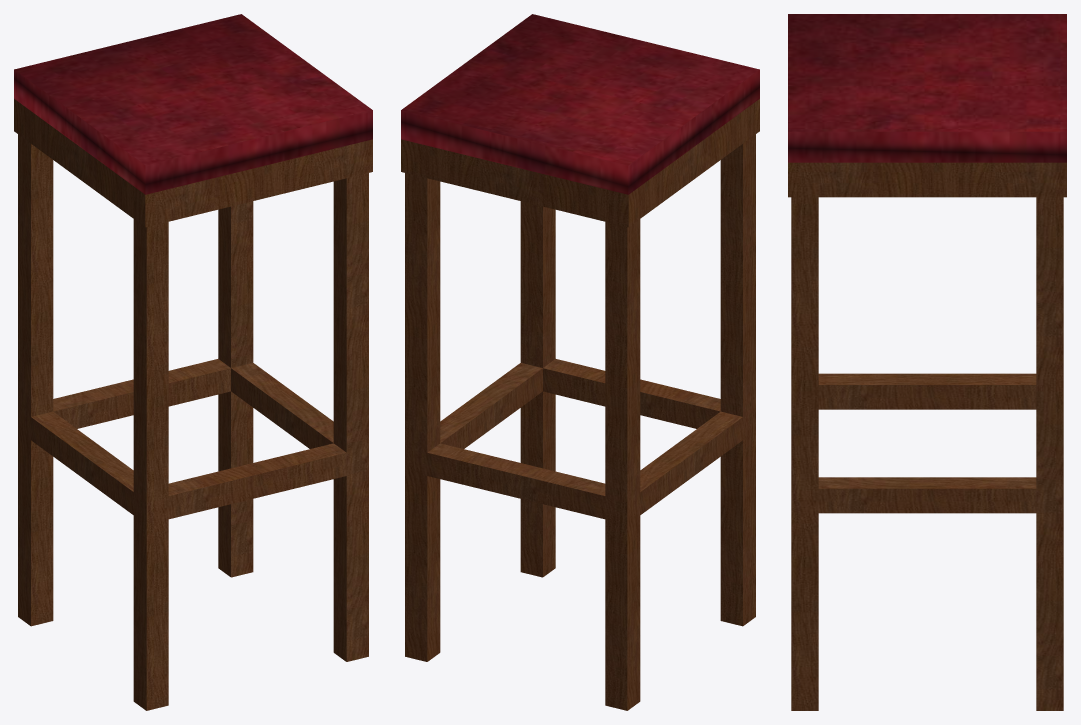
The model's file is chairBar_03.fbx.
The picture shows the model from 3 angles, left to right: view 1: azimuth 30°, elevation 25°; view 2: azimuth 150°, elevation 25°; view 3: azimuth 270°, elevation 25°; orthographic projection. The views are drawn at different scales.
Visible parts, largest first — view 1: bar_counter_01:Mesh14, bar_counter_01:Mesh13; view 2: bar_counter_01:Mesh14, bar_counter_01:Mesh13; view 3: bar_counter_01:Mesh14, bar_counter_01:Mesh13.
Boxes of the visible parts, left/top/right/bottom form: bar_counter_01:Mesh14: left=14, top=99, right=372, bottom=710; bar_counter_01:Mesh13: left=14, top=14, right=372, bottom=194; bar_counter_01:Mesh14: left=401, top=99, right=759, bottom=710; bar_counter_01:Mesh13: left=401, top=14, right=759, bottom=194; bar_counter_01:Mesh14: left=788, top=162, right=1066, bottom=710; bar_counter_01:Mesh13: left=788, top=14, right=1066, bottom=162.
Bounding box in the file's own units: 3.59 × 8.25 × 3.59.
